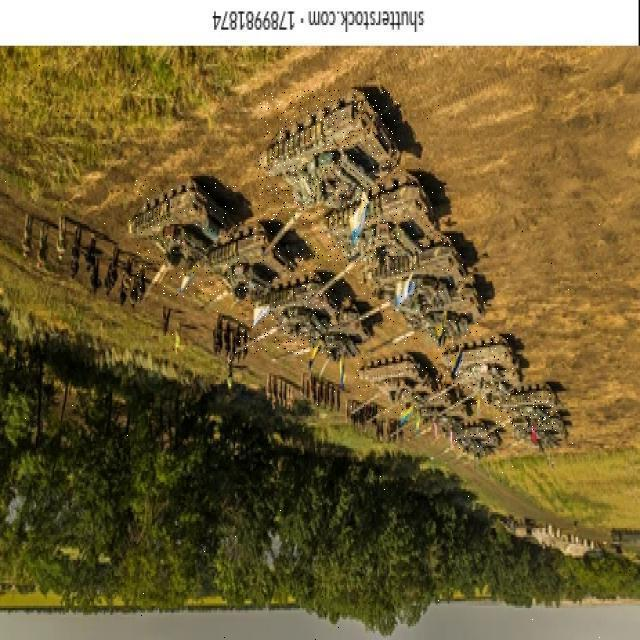MIL_MBT: (258, 90, 401, 262), (316, 171, 441, 302), (128, 180, 241, 300), (356, 236, 466, 324), (234, 268, 342, 354), (206, 225, 297, 312), (392, 276, 486, 348), (430, 332, 514, 406), (349, 354, 427, 414), (496, 391, 557, 432), (454, 428, 490, 452)
